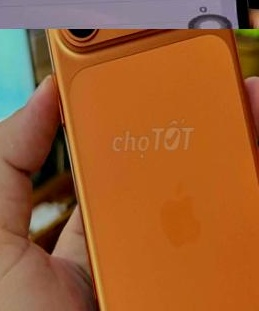scratch: (37, 29, 259, 311)
